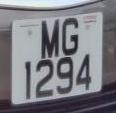1: (21, 56, 34, 105)
2: (32, 58, 56, 100)
4: (76, 52, 95, 95)
9: (53, 55, 79, 98)
G: (60, 16, 82, 61)
M: (37, 18, 62, 59)
